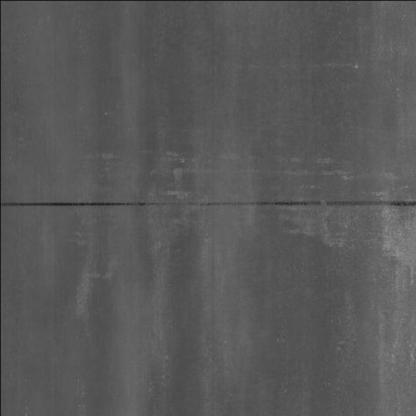crease: (3, 171, 416, 229)
